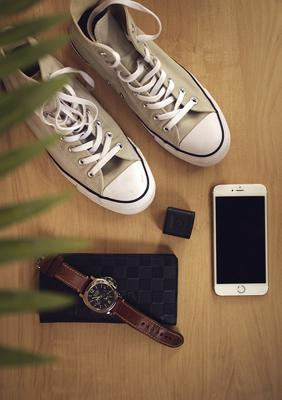cell-phone: (209, 180, 272, 300)
